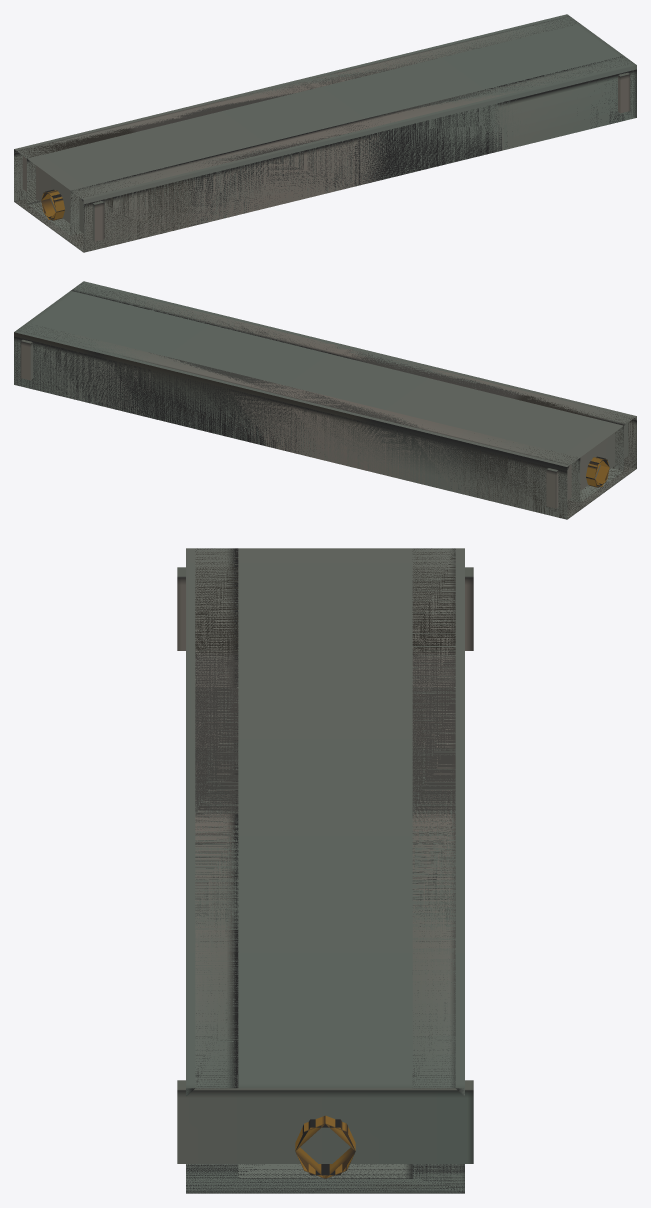
Rendered from place_works_conduit_power_straight.glb.
3 views of the same model, one above another, from view 1: azimuth 30°, elevation 25°; view 2: azimuth 150°, elevation 25°; view 3: azimuth 270°, elevation 25° (orthographic). The views are drawn at different scales.
Visible parts, largest first — view 1: LOD2_Merged_Material_Atlas, LOD0_Merged_Material_Atlas, LOD1_Merged_Material_Atlas; view 2: LOD2_Merged_Material_Atlas, LOD0_Merged_Material_Atlas, LOD1_Merged_Material_Atlas; view 3: LOD2_Merged_Material_Atlas, LOD0_Merged_Material_Atlas, LOD1_Merged_Material_Atlas.
Part boxes in pixels (x1,y1,x2,y2): LOD2_Merged_Material_Atlas: (14,14,636,251); LOD0_Merged_Material_Atlas: (14,16,636,252); LOD1_Merged_Material_Atlas: (14,16,636,251); LOD2_Merged_Material_Atlas: (14,281,636,519); LOD0_Merged_Material_Atlas: (14,283,636,519); LOD1_Merged_Material_Atlas: (14,283,636,519); LOD2_Merged_Material_Atlas: (186,548,464,1193); LOD0_Merged_Material_Atlas: (177,548,473,1193); LOD1_Merged_Material_Atlas: (186,548,464,1192).
Size of the model in its own units: 2.2 by 0.2 by 0.51.
1 material, 1 textured.
